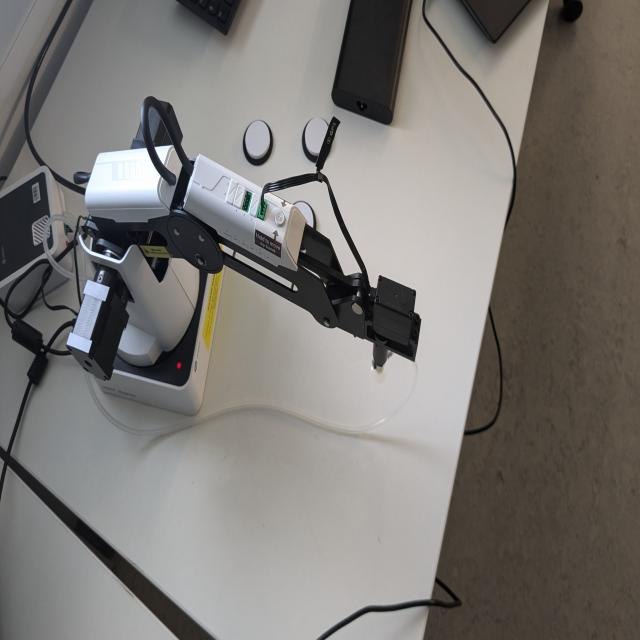Robot-end-effector-HF8z: (362, 271, 425, 386)
